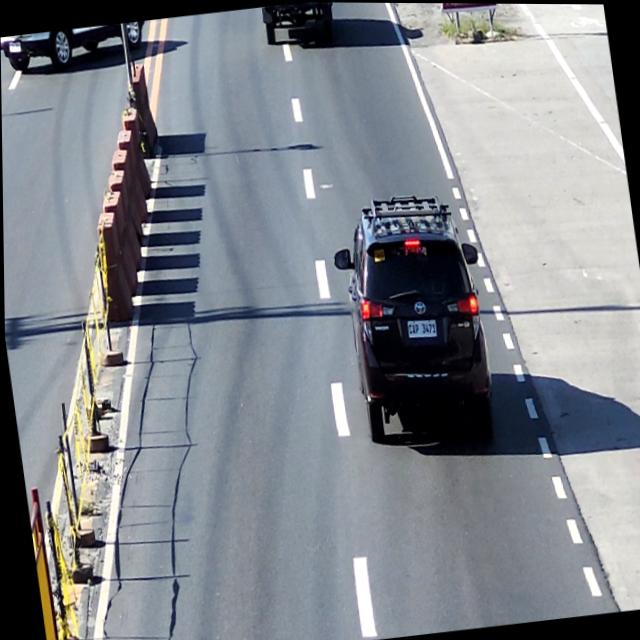Car: (325, 183, 504, 465), (0, 20, 144, 78), (260, 2, 338, 49)
License-Plate: (402, 314, 438, 344)
